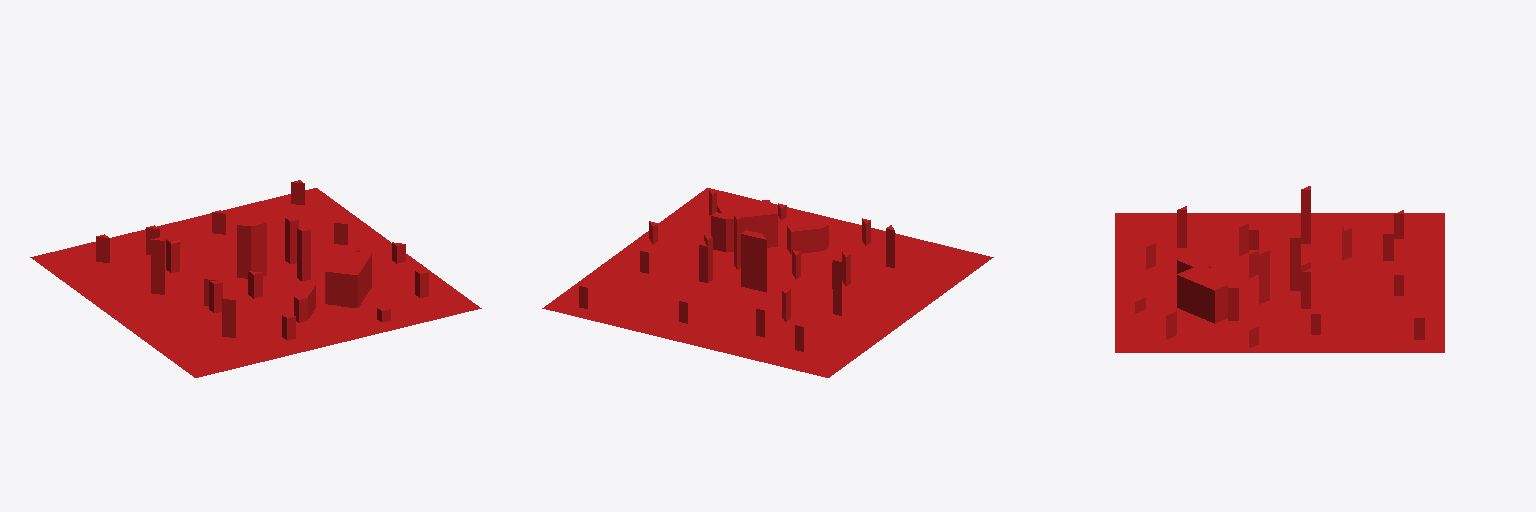
Rendered from fieldmap.obj.
3 renders of one model, left to right at view 1: azimuth 30°, elevation 25°; view 2: azimuth 150°, elevation 25°; view 3: azimuth 270°, elevation 25°, orthographic.
Parts seen in each view (by area): view 1: 平面; view 2: 平面; view 3: 平面.
Boxes of the visible parts, box(x1,y1,x2,y2) form: 平面: box(30, 180, 481, 377); 平面: box(542, 188, 993, 377); 平面: box(1115, 186, 1444, 352).
Size of the model in its own units: 200 by 36.03 by 200.